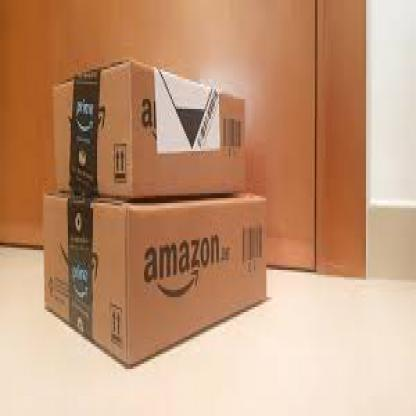package: (39, 191, 271, 373), (50, 58, 254, 209)
